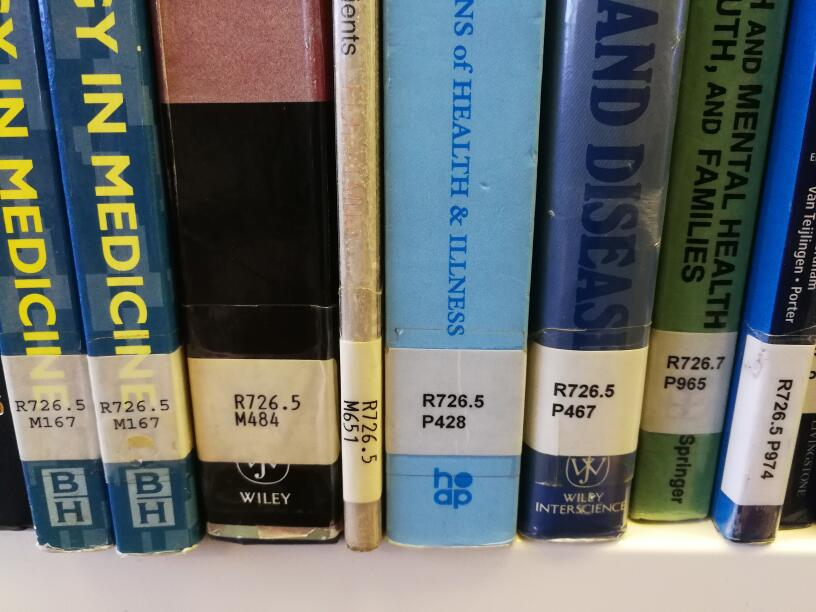booklabel: (760, 376, 794, 481), (232, 391, 301, 429), (340, 397, 379, 464), (421, 392, 486, 430), (662, 354, 725, 393), (550, 381, 615, 418), (99, 398, 170, 430), (12, 399, 85, 430)
